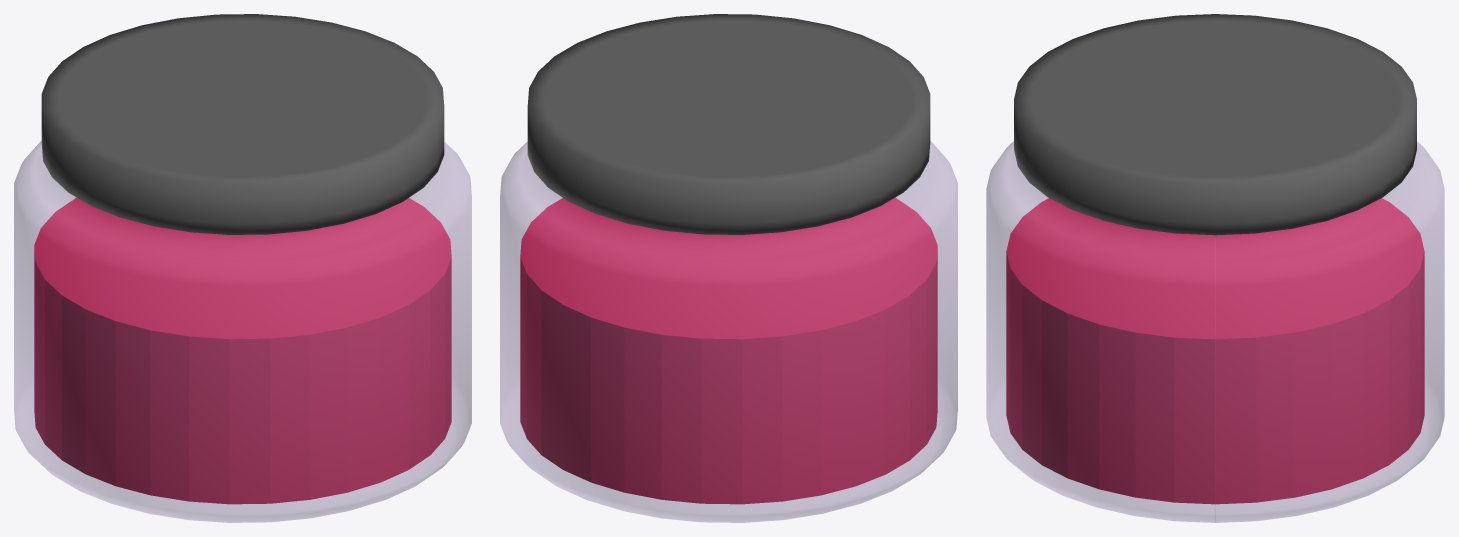
The model's file is confiture.glb.
3 views of the same model, side by side, from view 1: azimuth 30°, elevation 25°; view 2: azimuth 150°, elevation 25°; view 3: azimuth 270°, elevation 25° (orthographic).
Parts seen in each view (by area): view 1: Cylinder.012, Cylinder.054; view 2: Cylinder.012, Cylinder.054; view 3: Cylinder.012, Cylinder.054.
Boxes of the visible parts, <box> form: Cylinder.012: <box>14,14,471,522</box>; Cylinder.054: <box>34,197,451,504</box>; Cylinder.012: <box>500,14,957,522</box>; Cylinder.054: <box>520,197,937,504</box>; Cylinder.012: <box>986,14,1444,522</box>; Cylinder.054: <box>1006,198,1424,504</box>.
Size of the model in its own units: 2.48 by 2 by 2.48.
